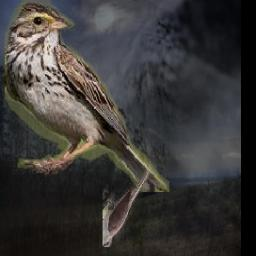Cuckoo: (102, 164, 152, 247)
Sparrow: (4, 1, 168, 193)
